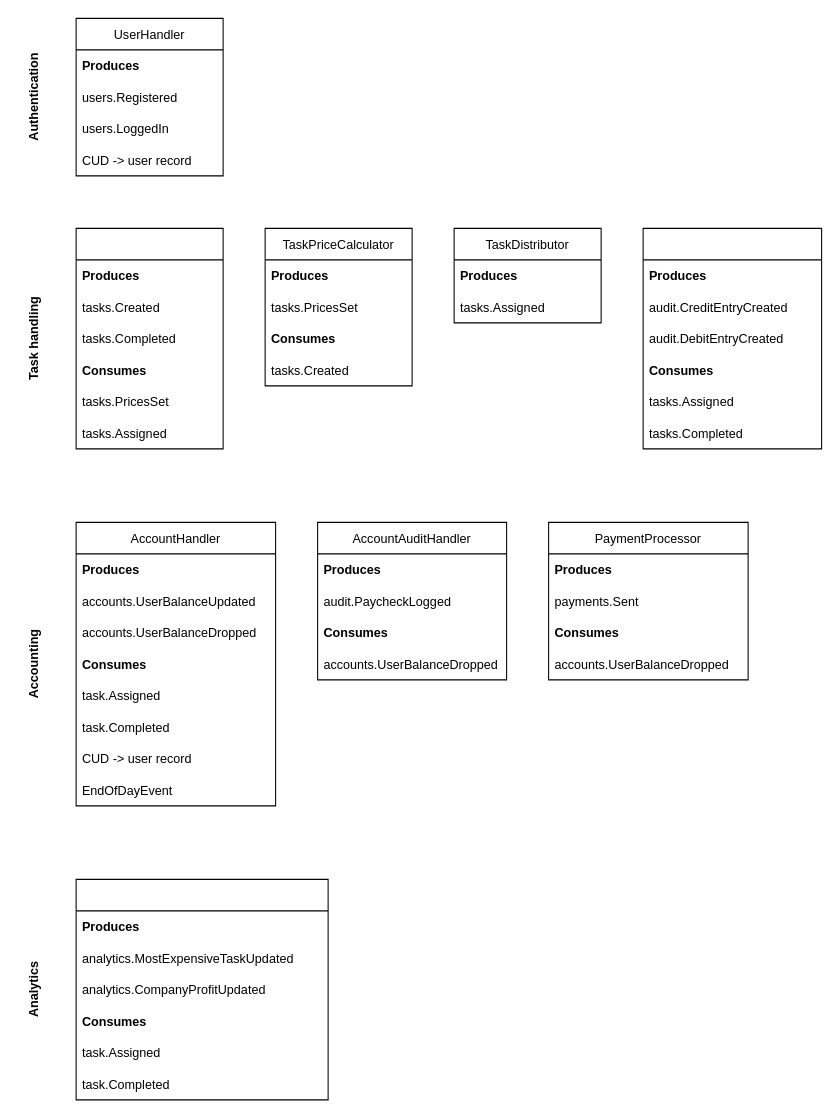
This 840x1117 diagram has some shape labels left out. The shapes that lost their labels are listed below. From the top down, each one's box as (x1, y1, x2, y2) in pixels, then its label:
(75, 227, 223, 449): TaskHandler
(642, 227, 822, 449): TaskAuditHandler
(75, 878, 328, 1100): AnalyticsHandler
